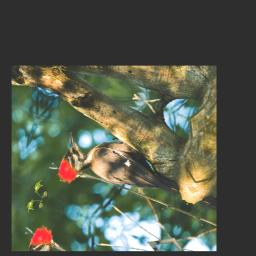Woodpecker: (52, 116, 191, 224)
